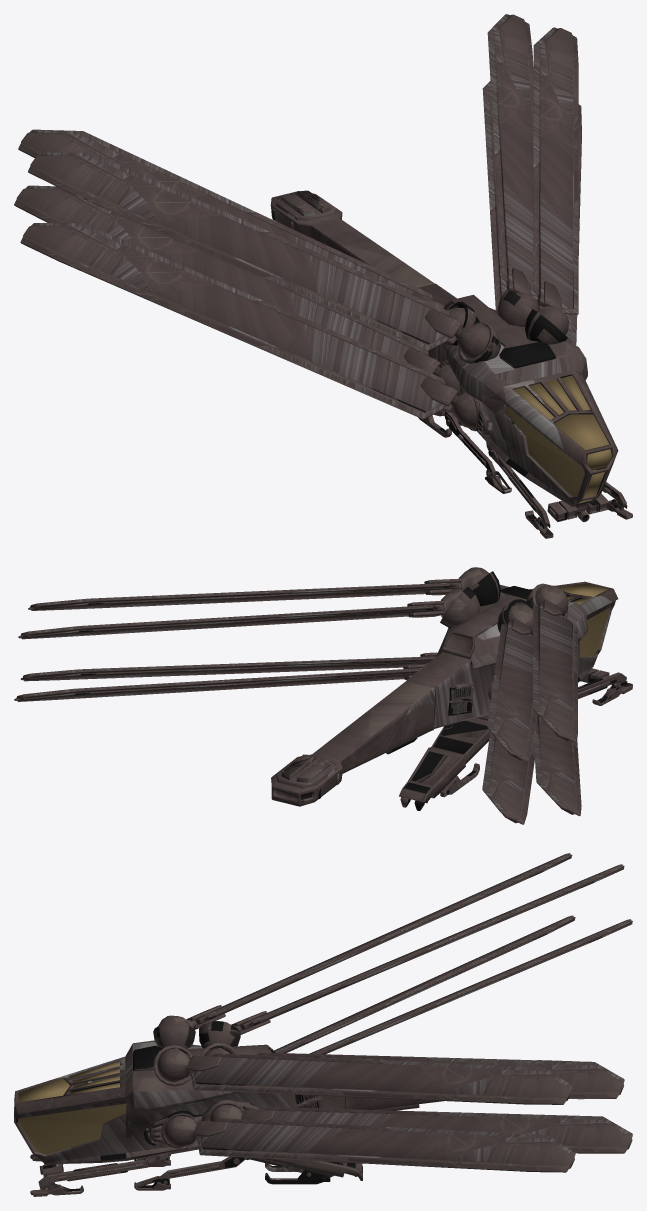
File: Orinthopter.glb
The picture shows the model from 3 angles, top to bottom: view 1: azimuth 30°, elevation 25°; view 2: azimuth 150°, elevation 25°; view 3: azimuth 270°, elevation 25°; orthographic projection. The views are drawn at different scales.
Visible parts, largest first — view 1: Orni, Orni1; view 2: Orni, Orni1; view 3: Orni, Orni1.
Boxes of the visible parts, x1,y1,x2,y2 form: Orni: (14, 14, 611, 503); Orni1: (270, 190, 632, 538); Orni: (14, 567, 610, 824); Orni1: (271, 571, 632, 810); Orni: (18, 853, 632, 1172); Orni1: (14, 1021, 572, 1196).
Size of the model in its own units: 17.6 by 6.82 by 18.25.
Materials: 3 (2 with a texture image).
